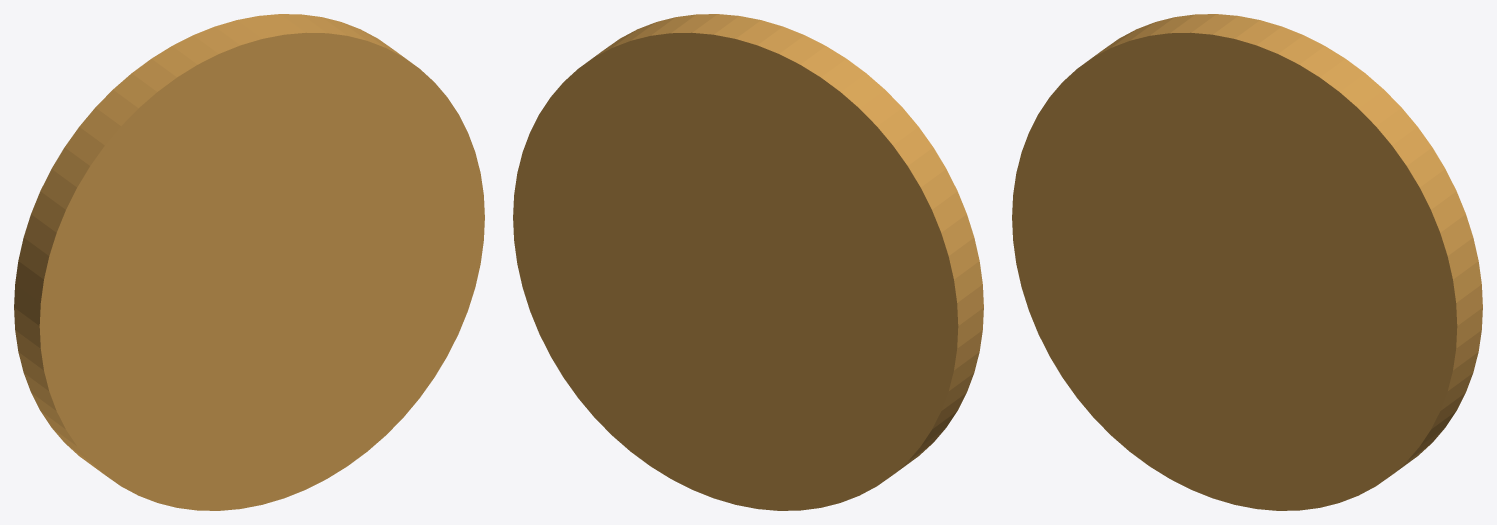
3 renders of one model, left to right at view 1: azimuth 30°, elevation 25°; view 2: azimuth 150°, elevation 25°; view 3: azimuth 330°, elevation 25°, orthographic.
Parts seen in each view (by area): view 1: Mesh_Mesh_head_geo.001_lambert2SG.001; view 2: Mesh_Mesh_head_geo.001_lambert2SG.001; view 3: Mesh_Mesh_head_geo.001_lambert2SG.001.
Boxes of the visible parts, x1,y1,x2,y2 form: Mesh_Mesh_head_geo.001_lambert2SG.001: [14, 14, 484, 510]; Mesh_Mesh_head_geo.001_lambert2SG.001: [513, 14, 983, 510]; Mesh_Mesh_head_geo.001_lambert2SG.001: [1012, 14, 1482, 510].
Size of the model in its own units: 90 by 90 by 9.
